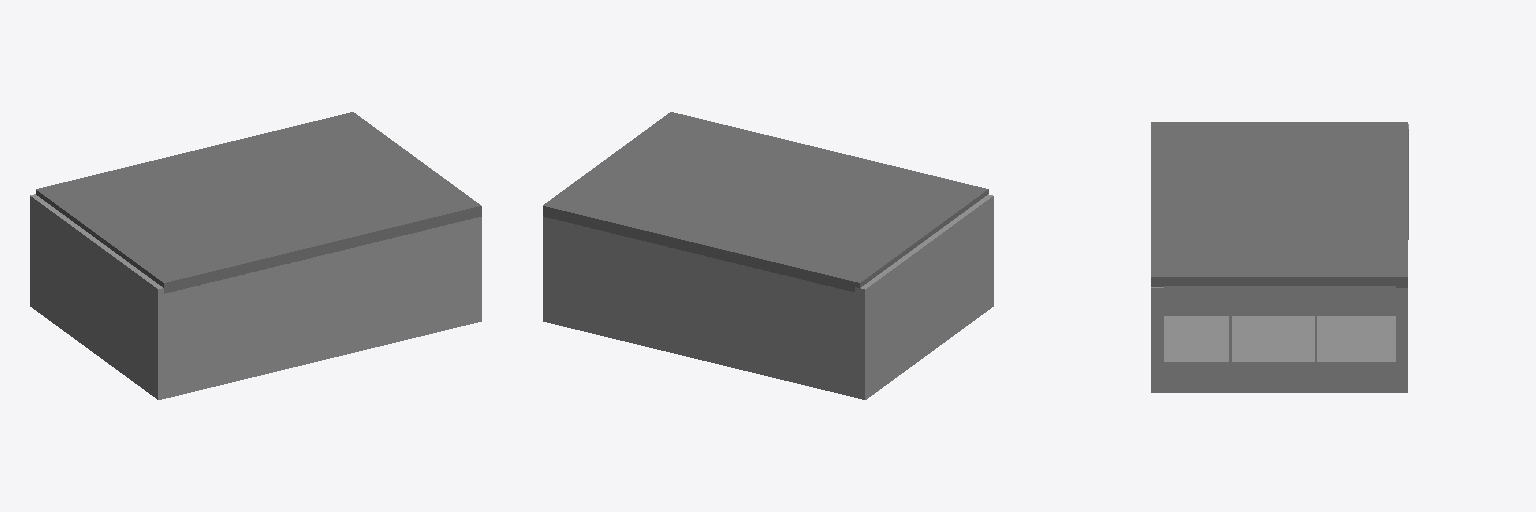
File: room4.obj
3 renders of one model, left to right at view 1: azimuth 30°, elevation 25°; view 2: azimuth 150°, elevation 25°; view 3: azimuth 270°, elevation 25°, orthographic.
Parts seen in each view (by area): view 1: top_top_Cube.024; view 2: top_top_Cube.024; view 3: top_top_Cube.024.
Part boxes in pixels (left/top/right/bottom): top_top_Cube.024: left=30, top=112, right=481, bottom=399; top_top_Cube.024: left=543, top=112, right=993, bottom=399; top_top_Cube.024: left=1151, top=122, right=1408, bottom=392.
Bounding box in the file's own units: 3.05 × 1.05 × 2.1.